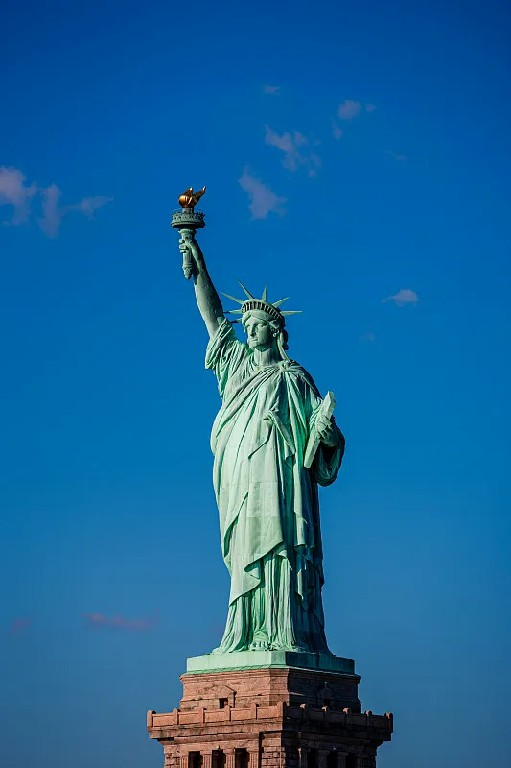SL: (147, 185, 393, 768)
